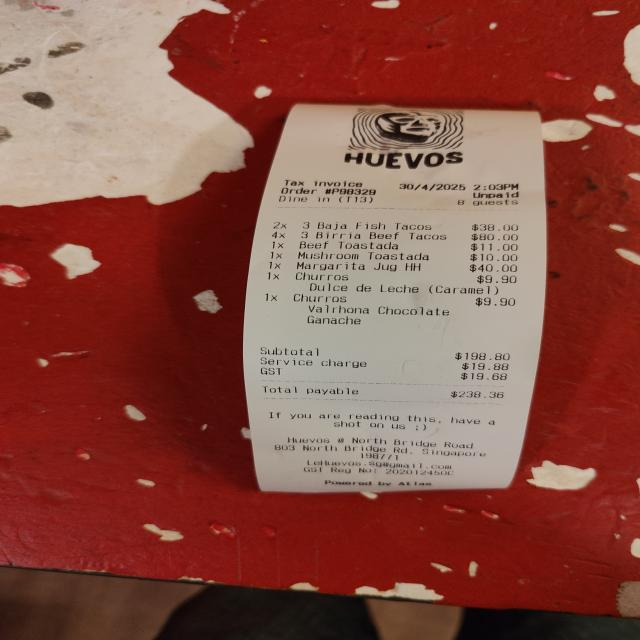bill_region: (257, 214, 530, 404)
